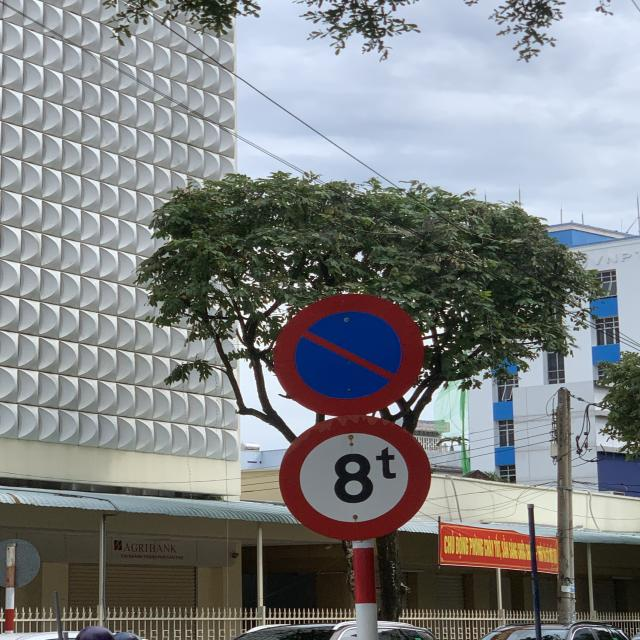Cam_Dau_Xe: (273, 293, 424, 416)
